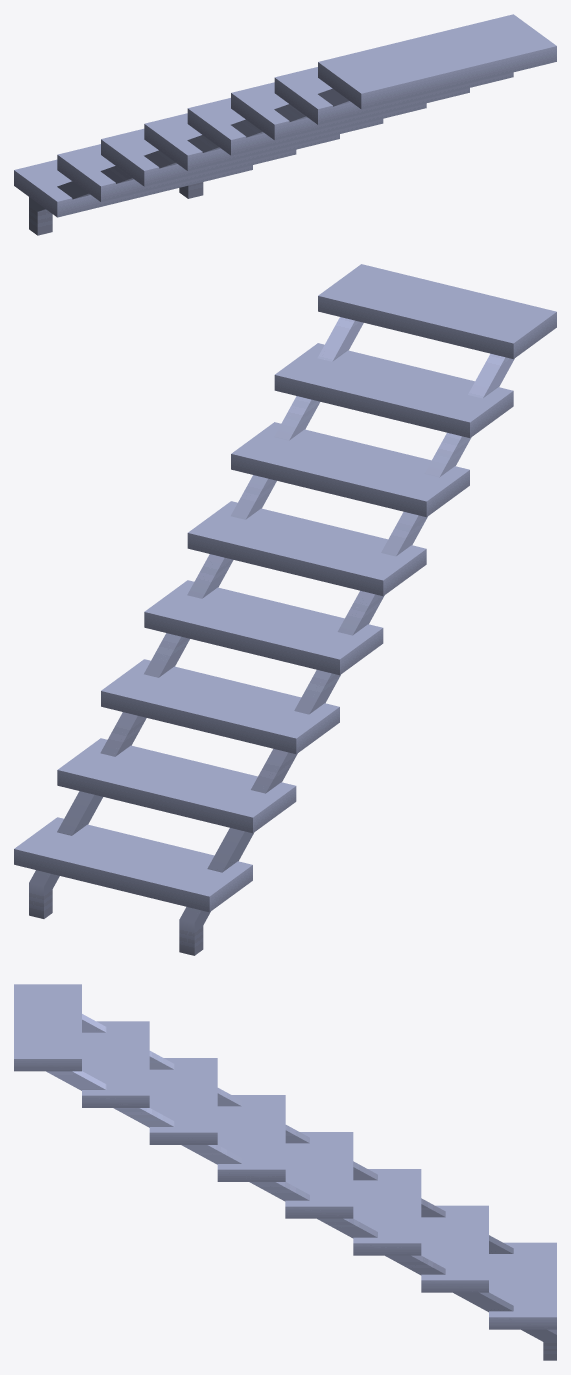
Rendered from stairs-open.001_lev2.glb.
3 renders of one model, top to bottom at view 1: azimuth 30°, elevation 25°; view 2: azimuth 150°, elevation 25°; view 3: azimuth 270°, elevation 25°, orthographic. The views are drawn at different scales.
Visible parts, largest first — view 1: stairs-open.001_lev2; view 2: stairs-open.001_lev2; view 3: stairs-open.001_lev2.
Part boxes in pixels (x1,y1,x2,y2): stairs-open.001_lev2: [14, 14, 556, 235]; stairs-open.001_lev2: [14, 264, 556, 955]; stairs-open.001_lev2: [14, 984, 556, 1360].
Size of the model in its own units: 1.3 by 2.5 by 4.
Materials: 1 (1 with a texture image).
